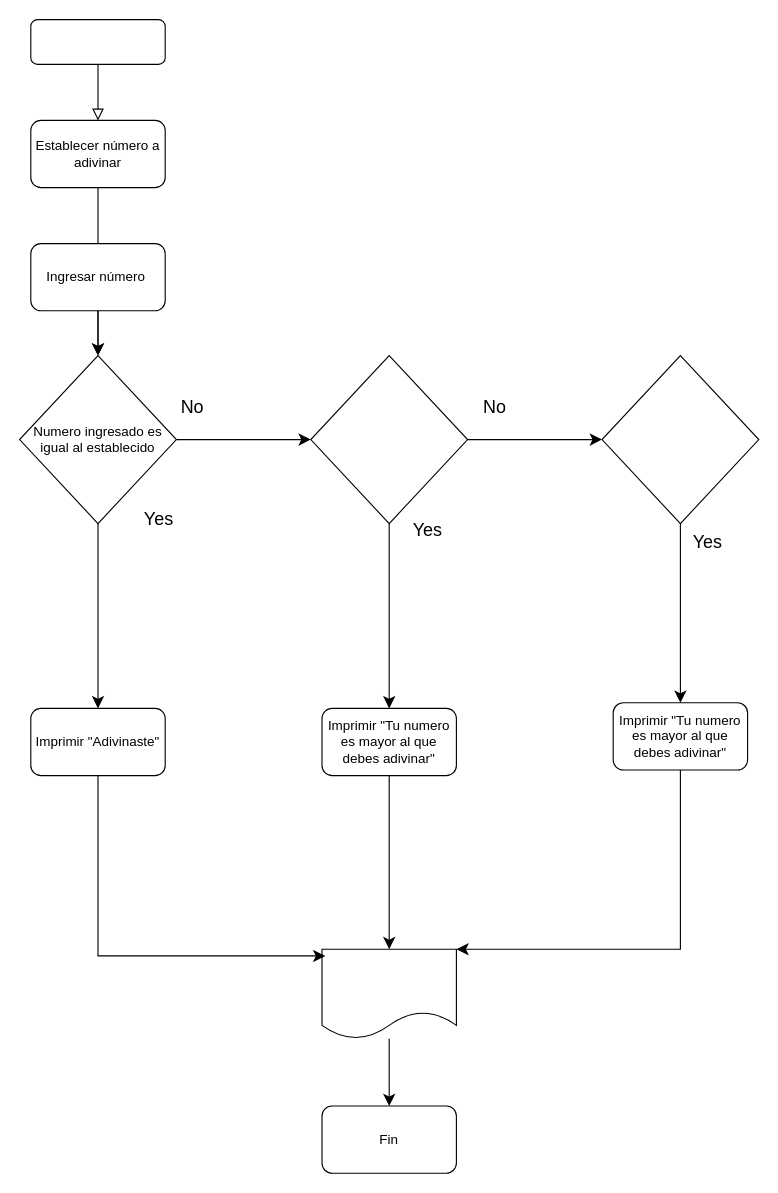
Image size: 778x1193. Some labels were removed from this diagram. Each missing label, with the centre of its shape:
Adivinar número: pixel 388 993
Inicio: pixel 97 41
Numero ingresado es mayor al establecido: pixel 389 439
Numero ingresado es menor al establecido: pixel 680 439
